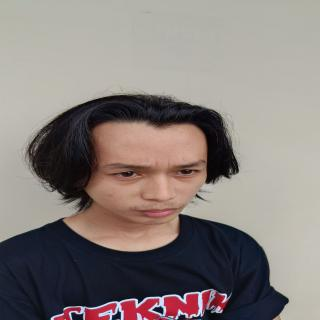Marah: (85, 116, 218, 234)
